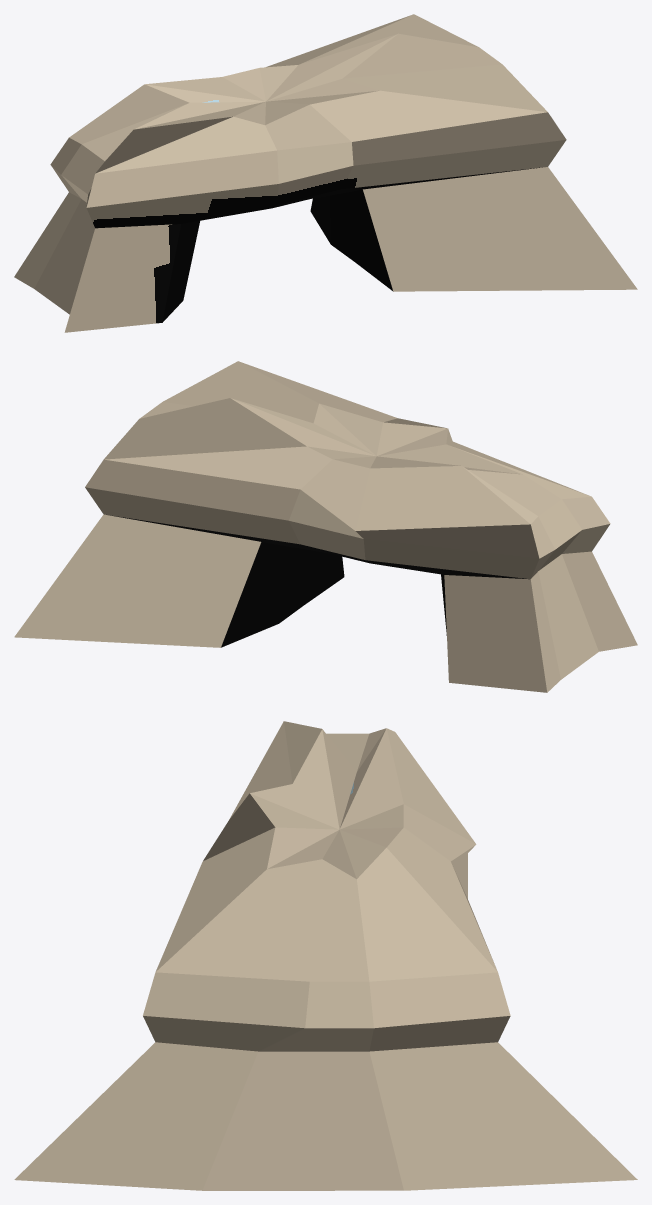
Rendered from rock2.fbx.
3 renders of one model, top to bottom at view 1: azimuth 30°, elevation 25°; view 2: azimuth 150°, elevation 25°; view 3: azimuth 270°, elevation 25°, orthographic. The views are drawn at different scales.
Parts seen in each view (by area): view 1: sphere; view 2: sphere; view 3: sphere.
Boxes of the visible parts, x1=… form: sphere: x1=14, y1=14, x2=637, y2=332; sphere: x1=14, y1=361, x2=637, y2=692; sphere: x1=14, y1=721, x2=637, y2=1190.
Bounding box in the file's own units: 177 × 69.93 × 152.
1 material, 1 textured.
